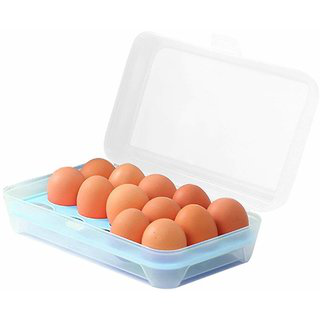egg: (45, 157, 253, 254)
